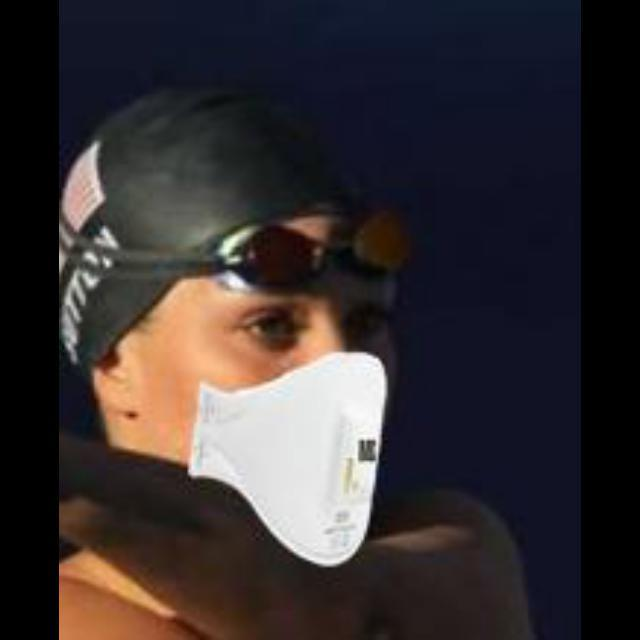suspicion: (86, 170, 442, 566)
